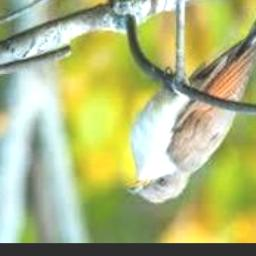Cuckoo: (129, 0, 256, 203)
